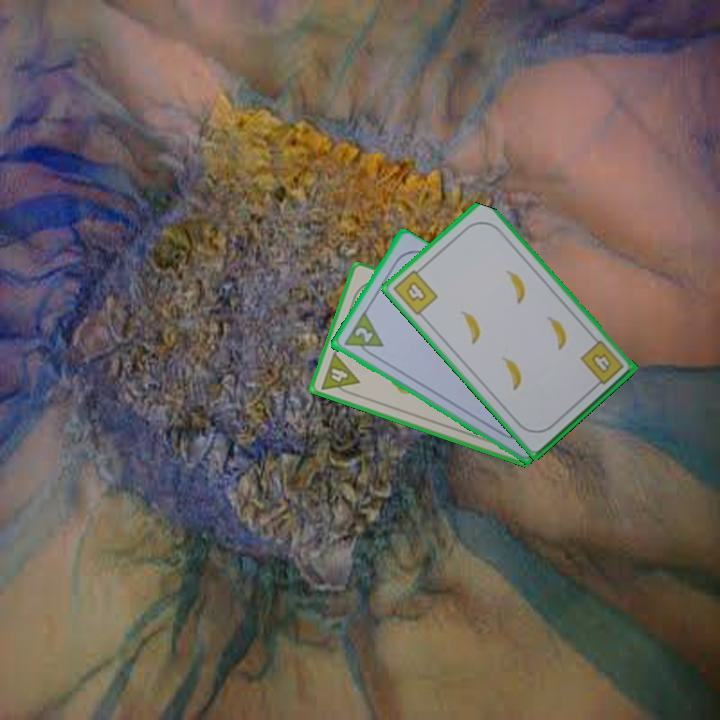2p: (340, 309, 386, 361)
4b: (389, 263, 441, 318), (577, 337, 627, 391)
4p: (317, 349, 362, 399)
